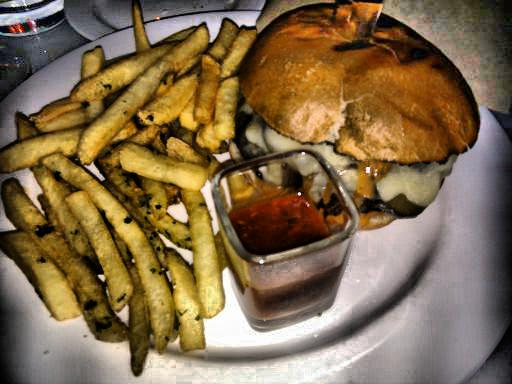burger: (201, 22, 483, 227)
